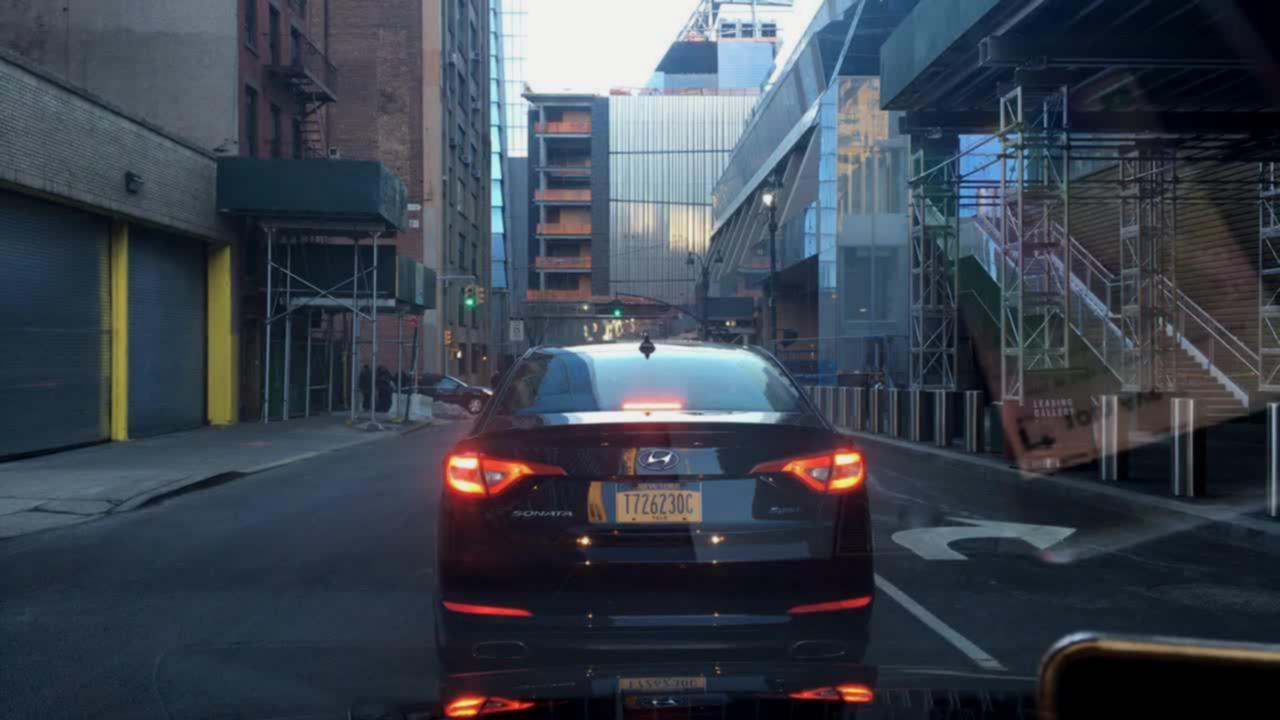Hyundai: (629, 440, 690, 480)
